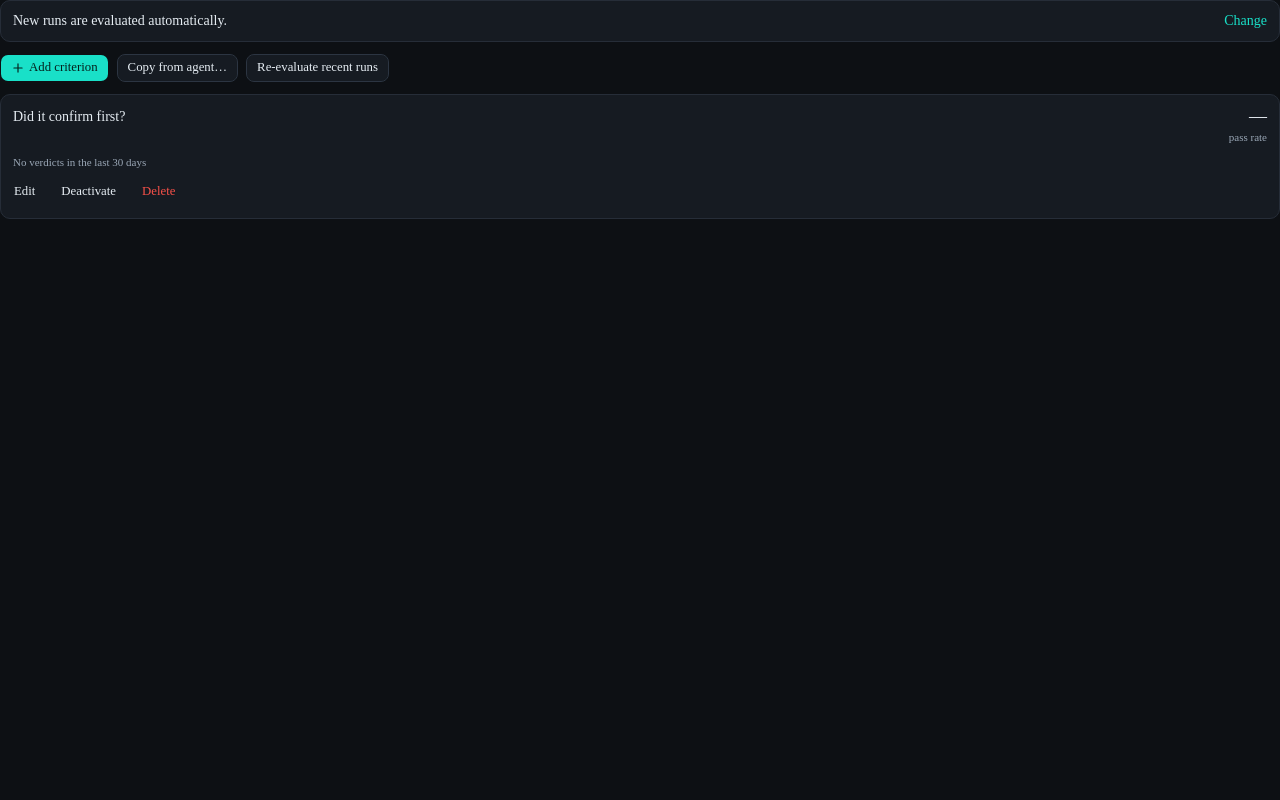
it: CriteriaPanel › criteria list › opens the dialog prefilled when editing
What coordinates should you click on to do the following:
click the button "Edit"
I would click on:
 (25, 192)
Its box is [3,178,46,206].
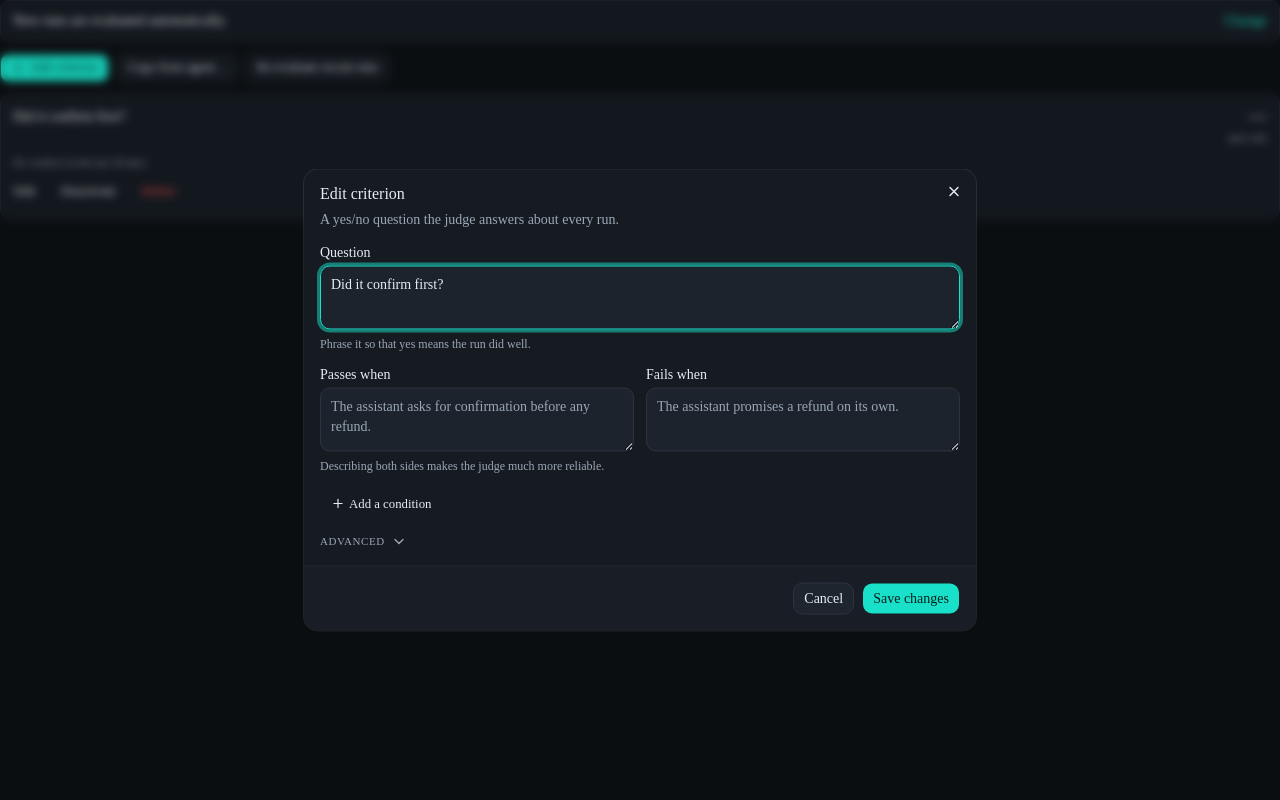
Check: the text box labelled "Question" holds "Did it confirm first?", box [320,266,960,330]
